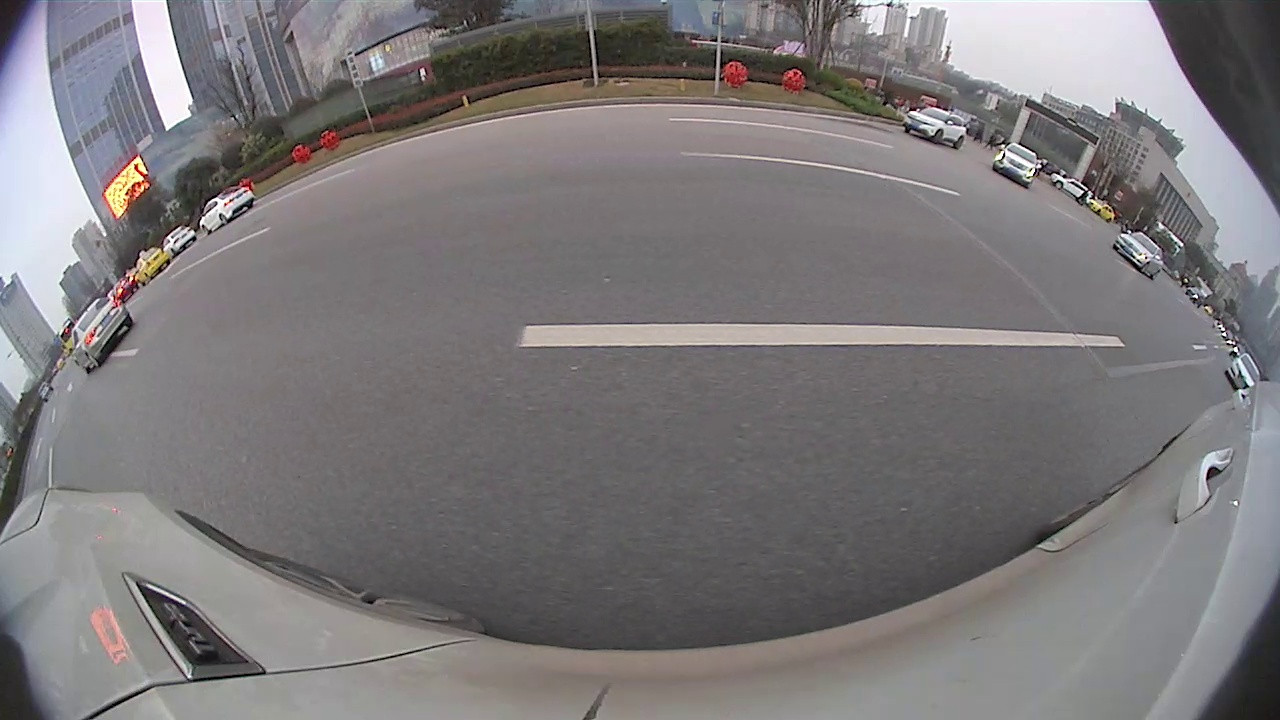bus: (770, 103, 1076, 253)
car: (1039, 246, 1277, 475), (303, 148, 523, 267), (770, 135, 929, 229), (515, 143, 586, 200), (709, 155, 767, 190)
front: (1086, 323, 1202, 461), (507, 191, 524, 220), (769, 177, 785, 206)
rear: (420, 204, 457, 257), (817, 184, 844, 224)
truck: (578, 10, 731, 201)
